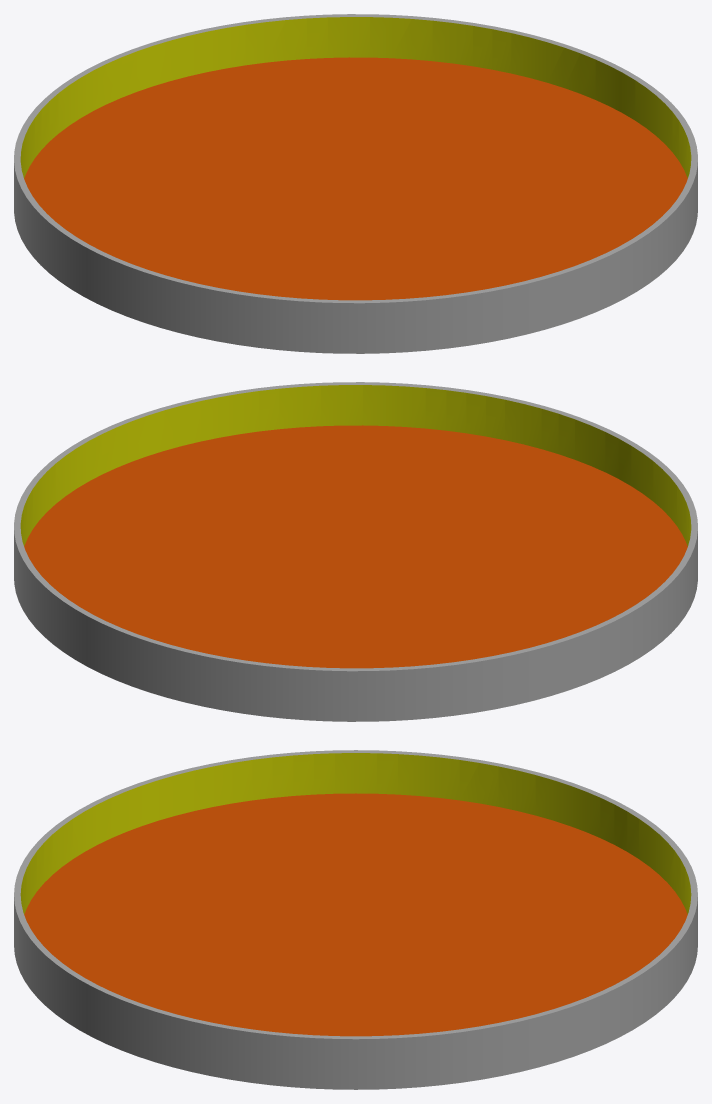
The model's file is maze_03.fbx.
The picture shows the model from 3 angles, top to bottom: view 1: azimuth 30°, elevation 25°; view 2: azimuth 150°, elevation 25°; view 3: azimuth 270°, elevation 25°; orthographic projection.
Visible parts, largest first — view 1: pCube7; view 2: pCube7; view 3: pCube7.
Part boxes in pixels (x1,y1,x2,y2): pCube7: [14, 14, 697, 353]; pCube7: [14, 382, 697, 721]; pCube7: [14, 750, 697, 1089].
Size of the model in its own units: 1530 by 125 by 1530.
